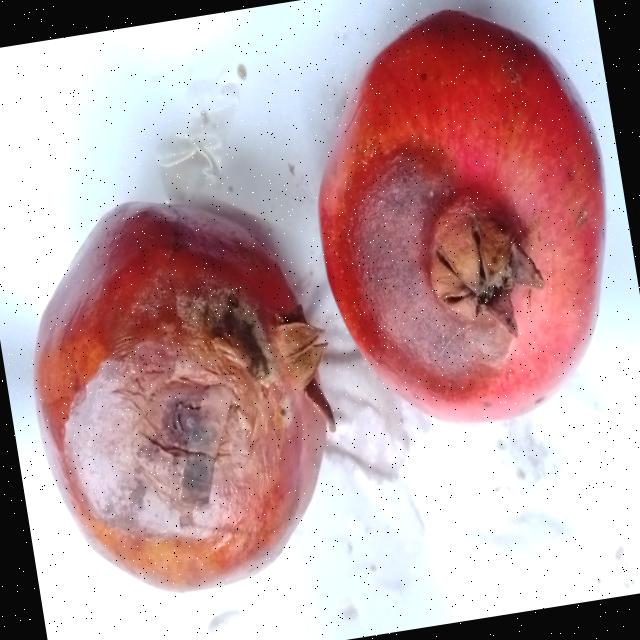Rotten: (2, 165, 374, 618), (281, 0, 640, 446)
